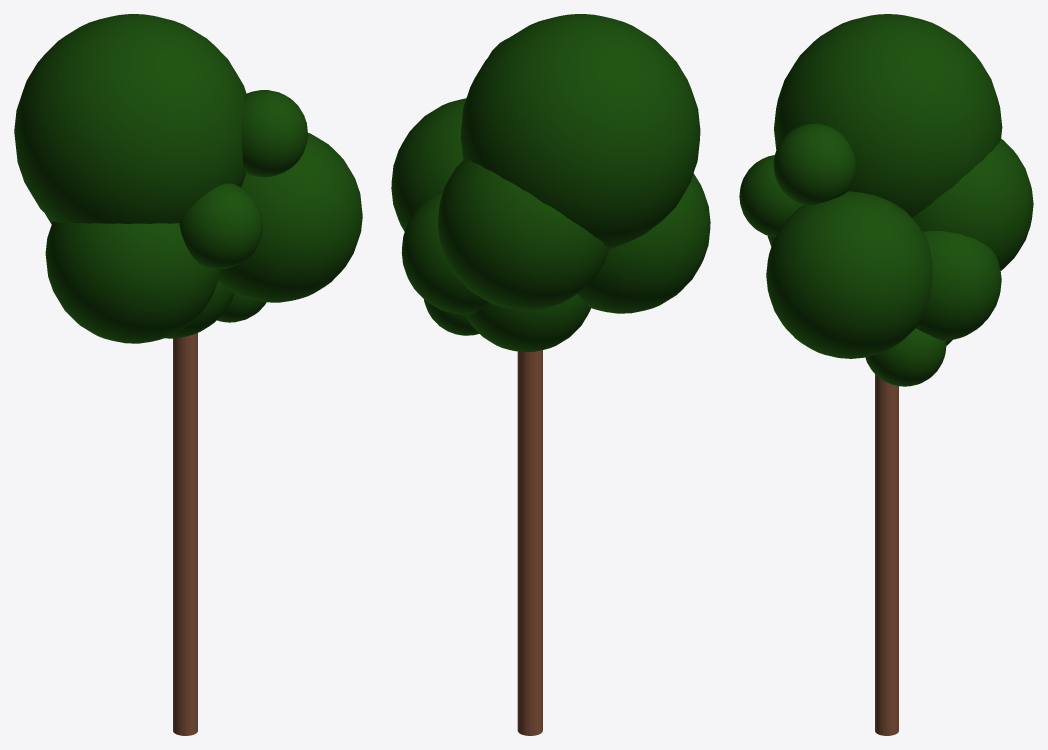
File: compressed_tree.glb
The picture shows the model from 3 angles, left to right: view 1: azimuth 30°, elevation 25°; view 2: azimuth 150°, elevation 25°; view 3: azimuth 270°, elevation 25°; orthographic projection. The views are drawn at different scales.
Visible parts, largest first — view 1: Sphere.012, Cylinder.004; view 2: Sphere.012, Cylinder.004; view 3: Sphere.012, Cylinder.004.
Part boxes in pixels (x1=…): Sphere.012: x1=14, y1=14, x2=362, y2=343; Cylinder.004: x1=173, y1=333, x2=197, y2=735; Sphere.012: x1=391, y1=14, x2=710, y2=352; Cylinder.004: x1=517, y1=350, x2=542, y2=735; Sphere.012: x1=739, y1=14, x2=1033, y2=386; Cylinder.004: x1=875, y1=374, x2=898, y2=735.
Size of the model in its own units: 0.1789 by 0.4075 by 0.1591.
